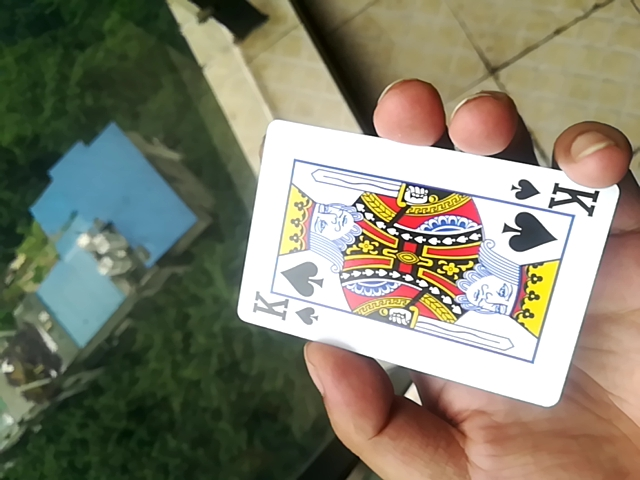ht k: (231, 117, 621, 409)
